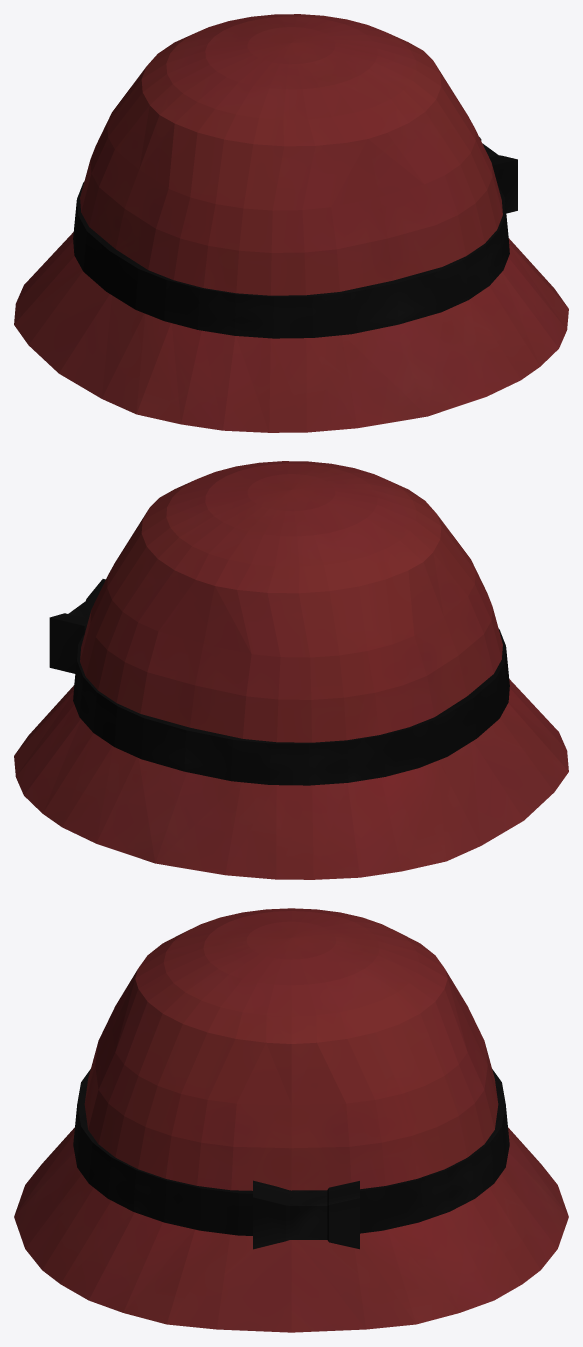
File: Cloche AKA Red Bucket Stripe Hat.fbx
3 renders of one model, top to bottom at view 1: azimuth 30°, elevation 25°; view 2: azimuth 150°, elevation 25°; view 3: azimuth 270°, elevation 25°, orthographic.
Visible parts, largest first — view 1: Cube; view 2: Cube; view 3: Cube.
Part boxes in pixels (bbox=[...]): Cube: bbox=[14, 14, 568, 432]; Cube: bbox=[14, 461, 568, 879]; Cube: bbox=[14, 908, 568, 1332].
Bounding box in the file's own units: 44.98 × 25.32 × 45.61.
